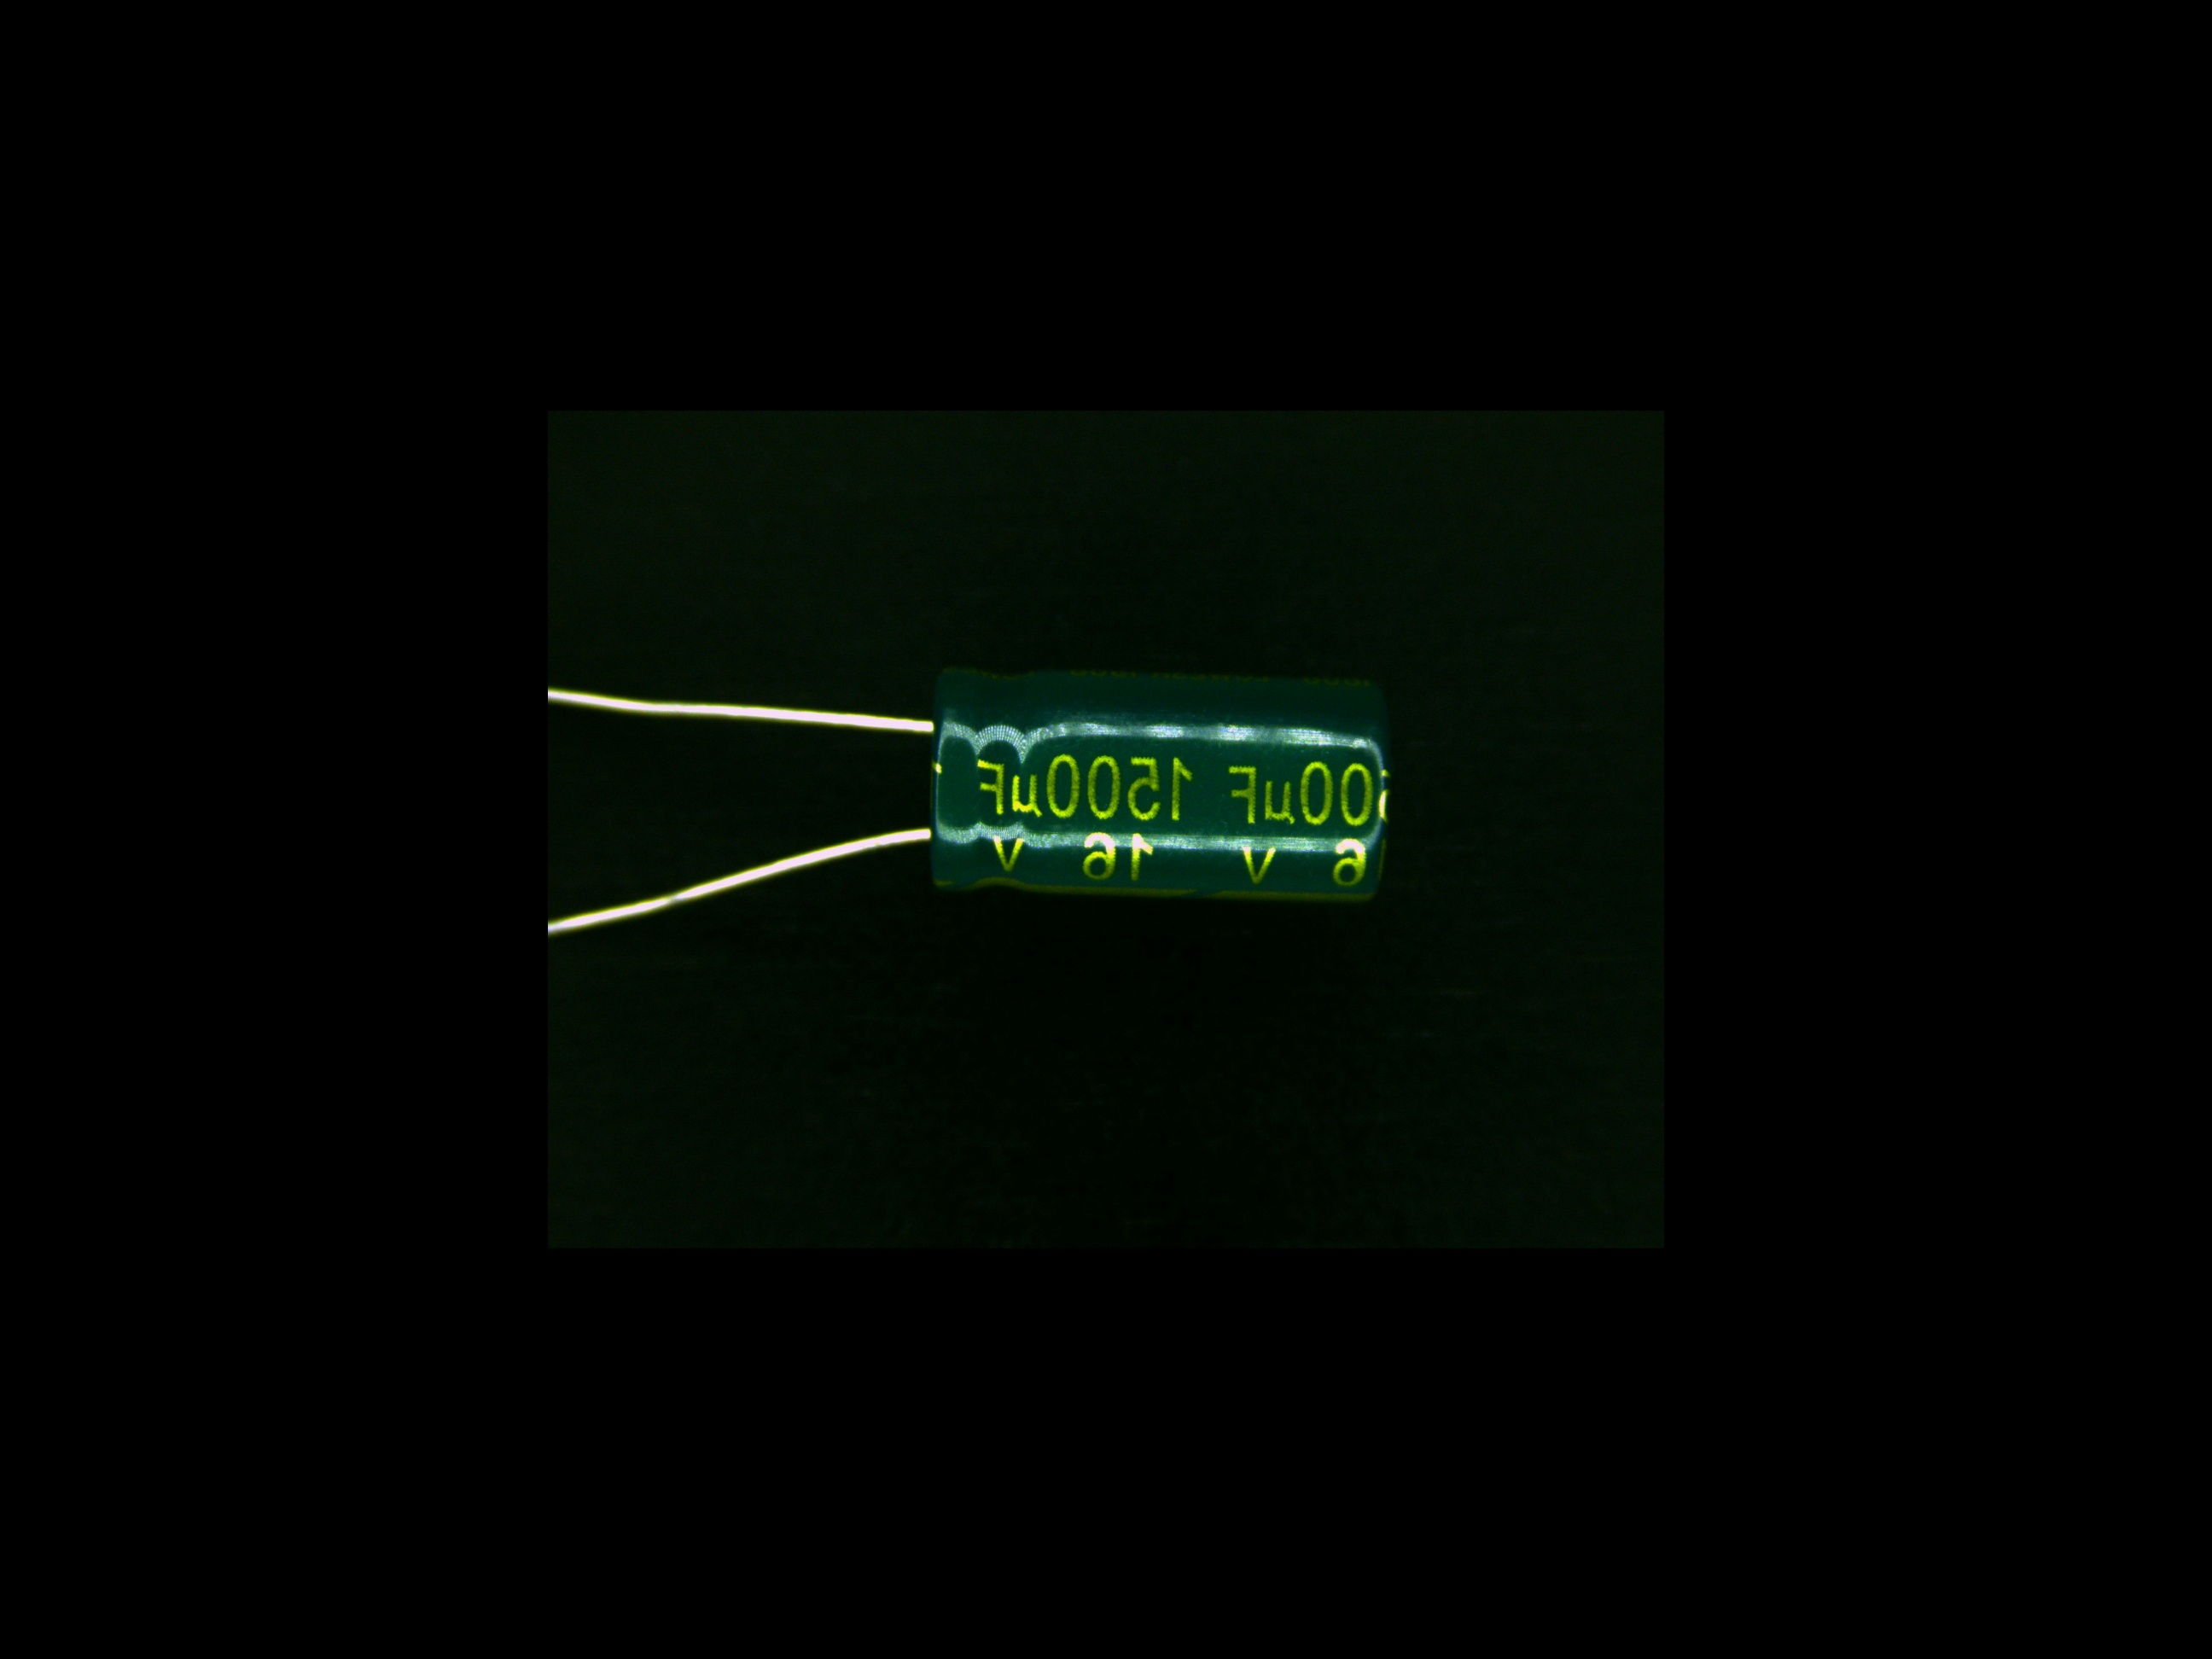c1: (829, 667, 1393, 899)
